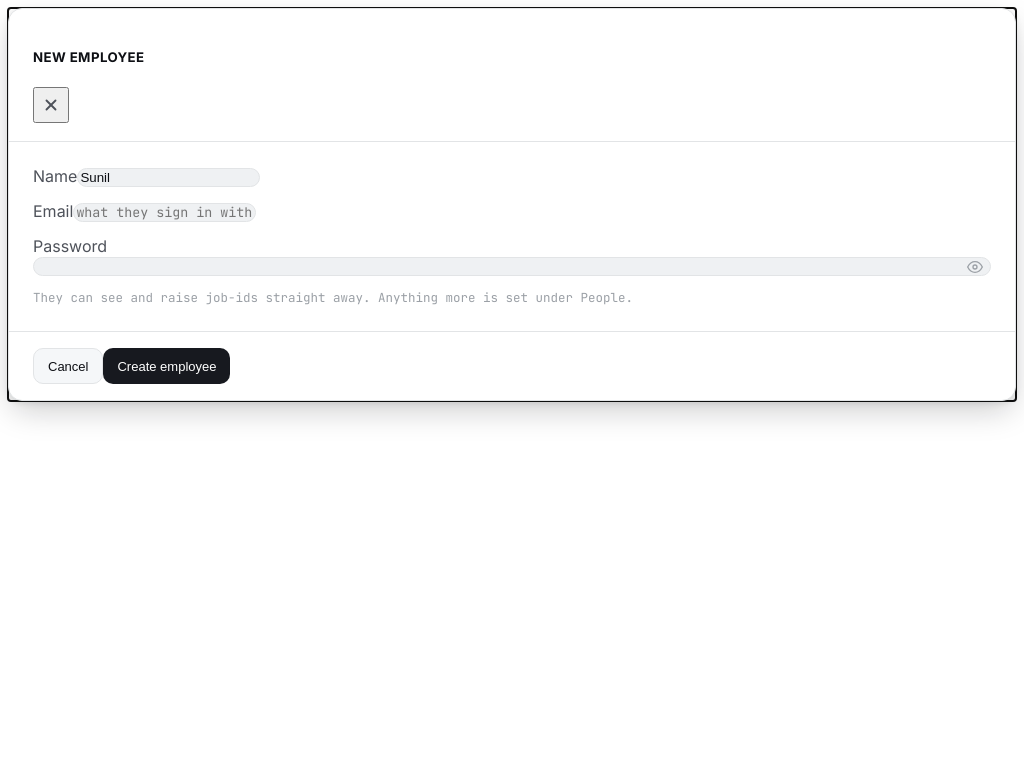
QuickCreateEmployeeModal › refuses a password with no email, and an email with no password
Type "x" into the password field labelled "Password" at (512, 267), box [33,257,991,276]
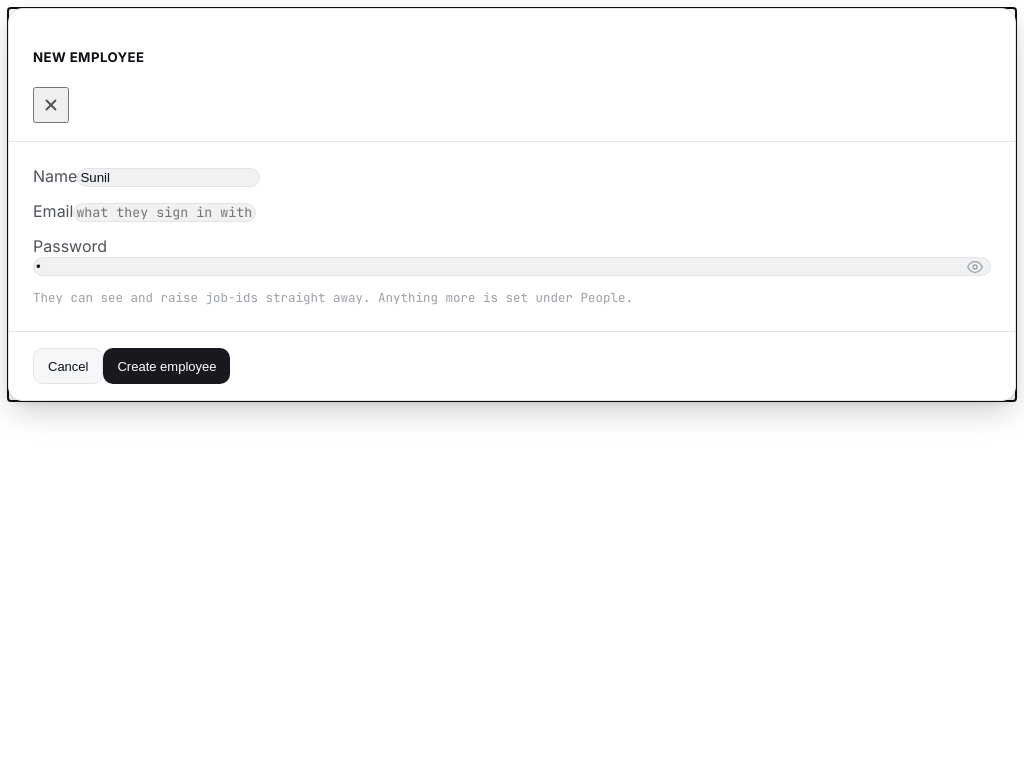
Click the button "Create employee" at (167, 366), box [104,348,230,384]
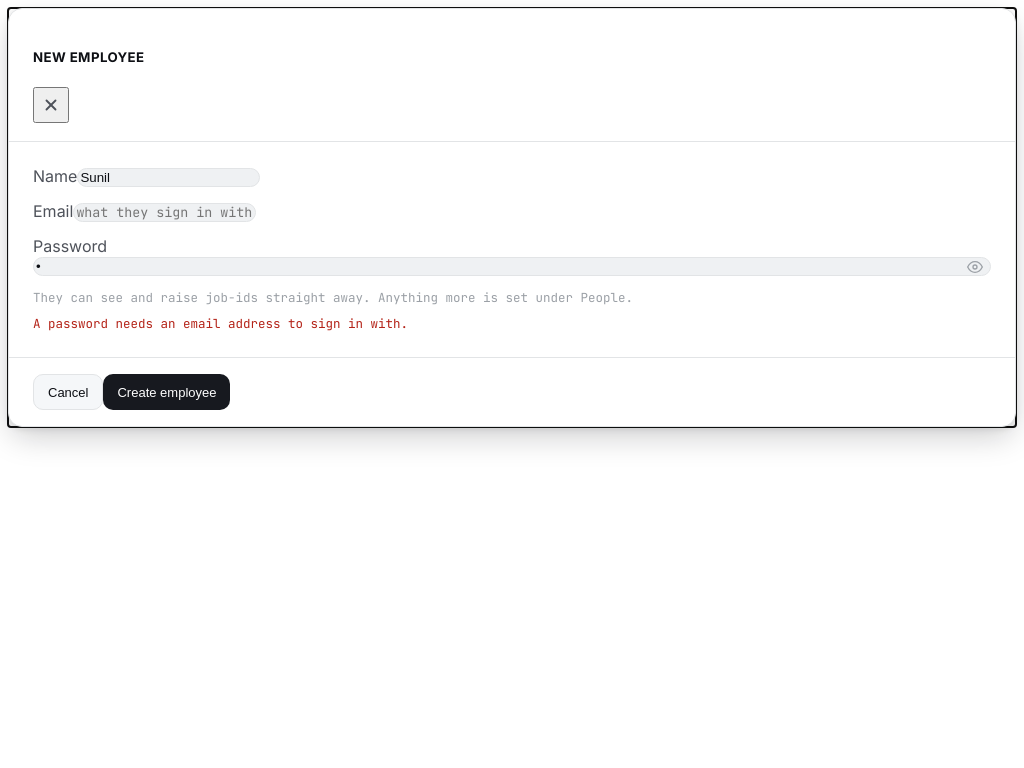
Result: the text "A password needs an email address to sign in with." is shown at [33,315,408,332]
Clear the password field labelled "Password" at (512, 267), box [33,257,991,276]
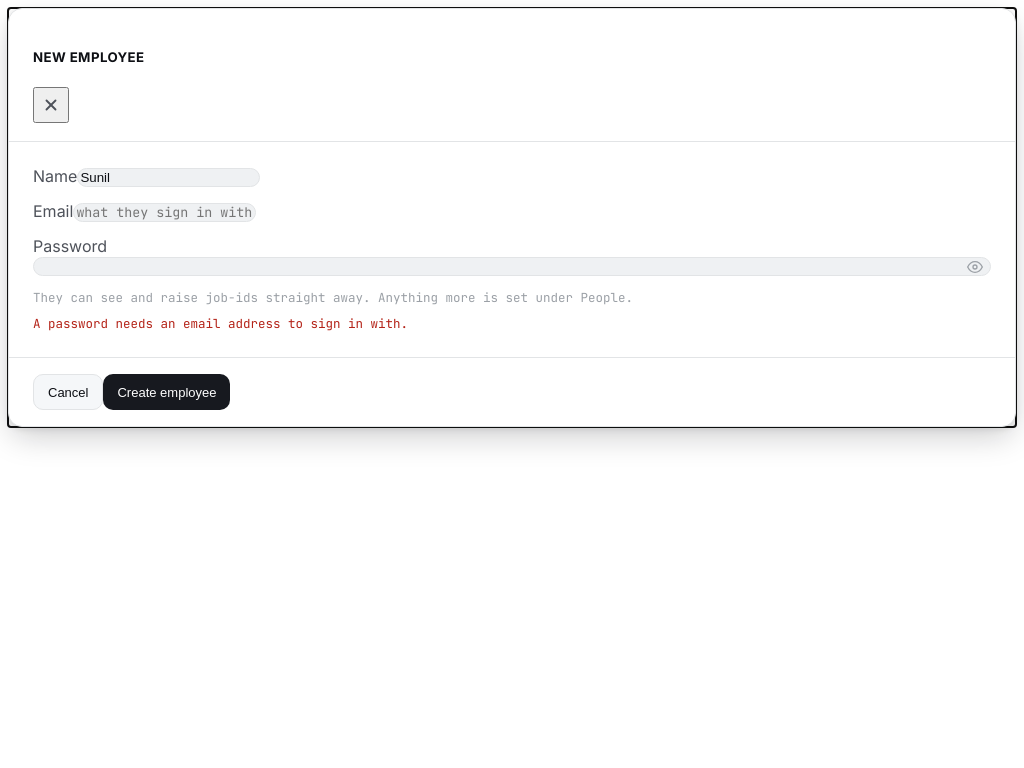
Type "a@b.test" into the field labelled "Email" at (165, 213), box [73,203,256,222]
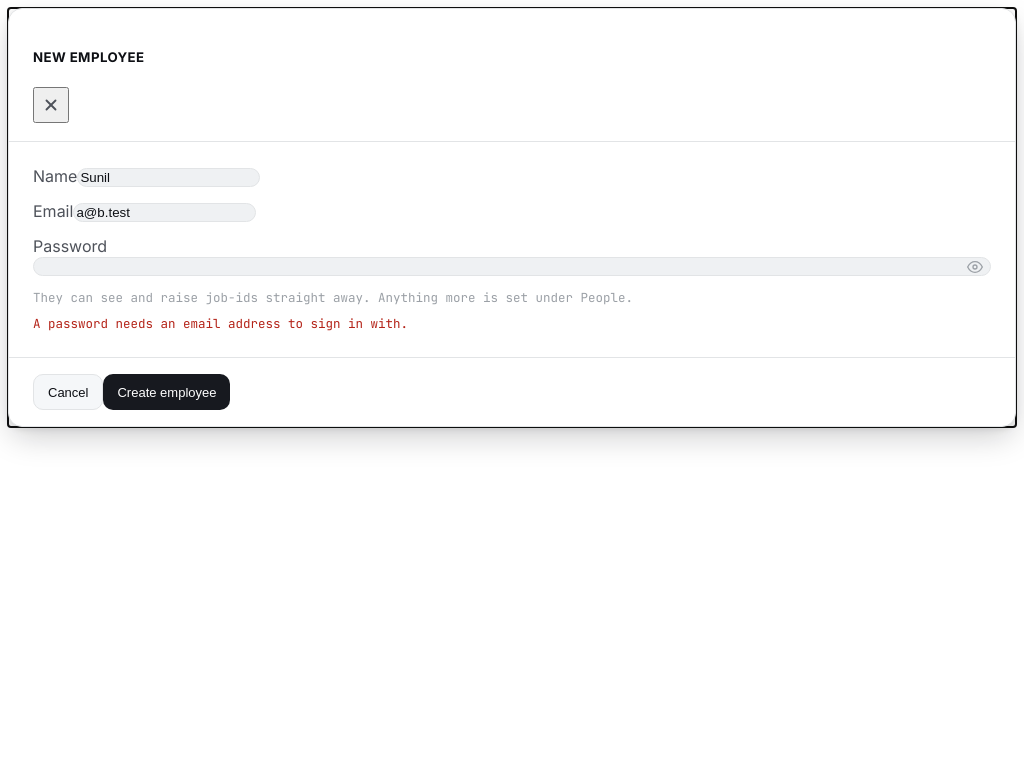
Click the button "Create employee" at (167, 392), box [104,374,230,410]
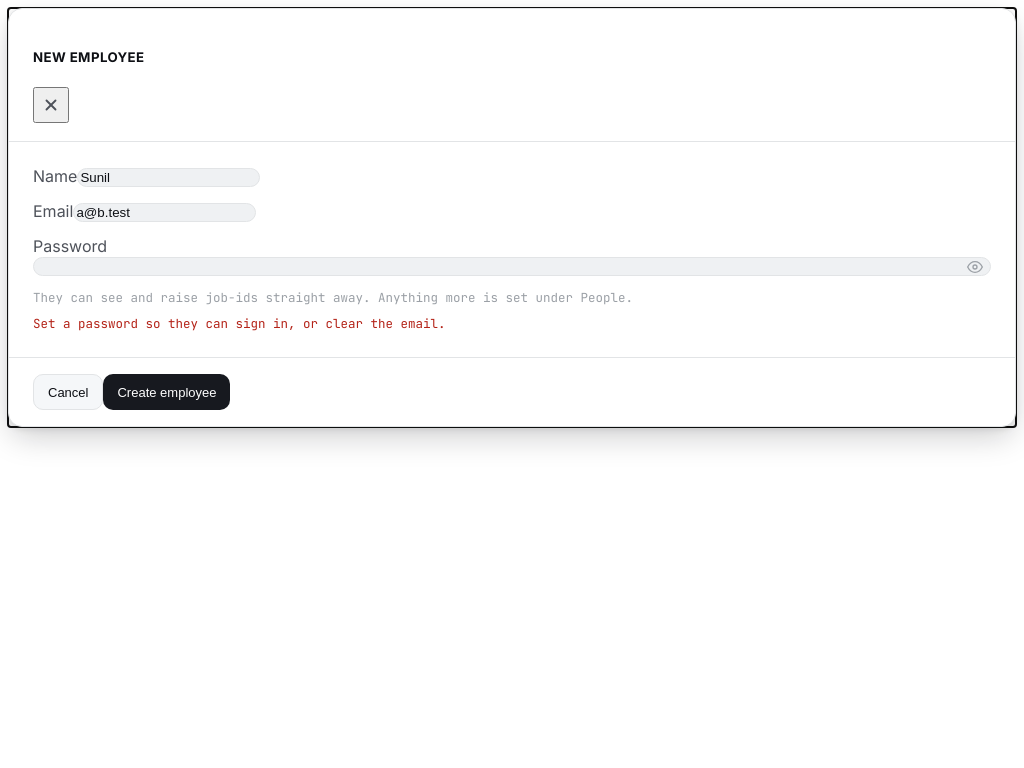
Result: the text "Set a password so they can sign in, or clear the email." is shown at [33,315,446,332]
